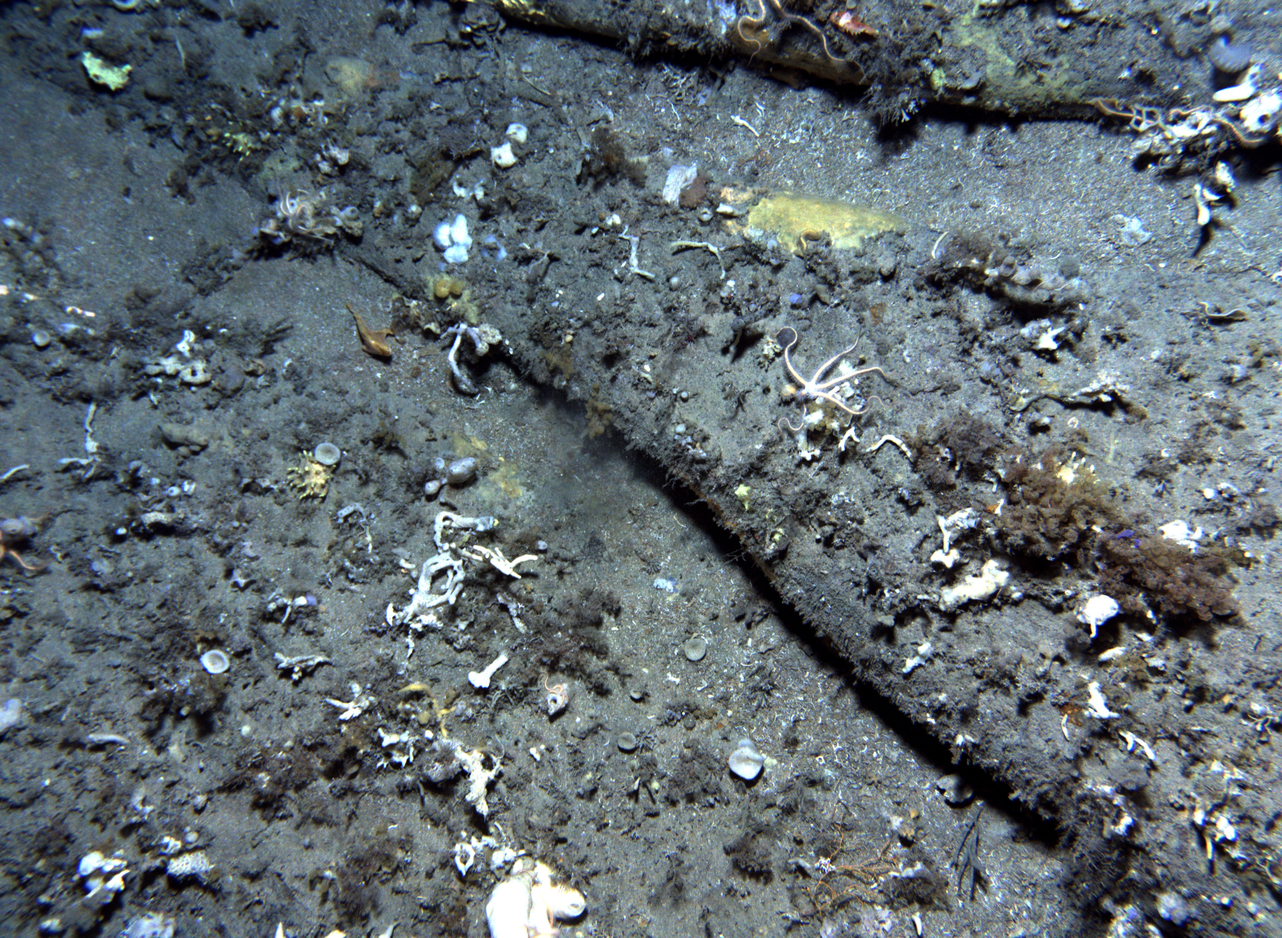Brachionichthyidae: (345, 299, 397, 363)
